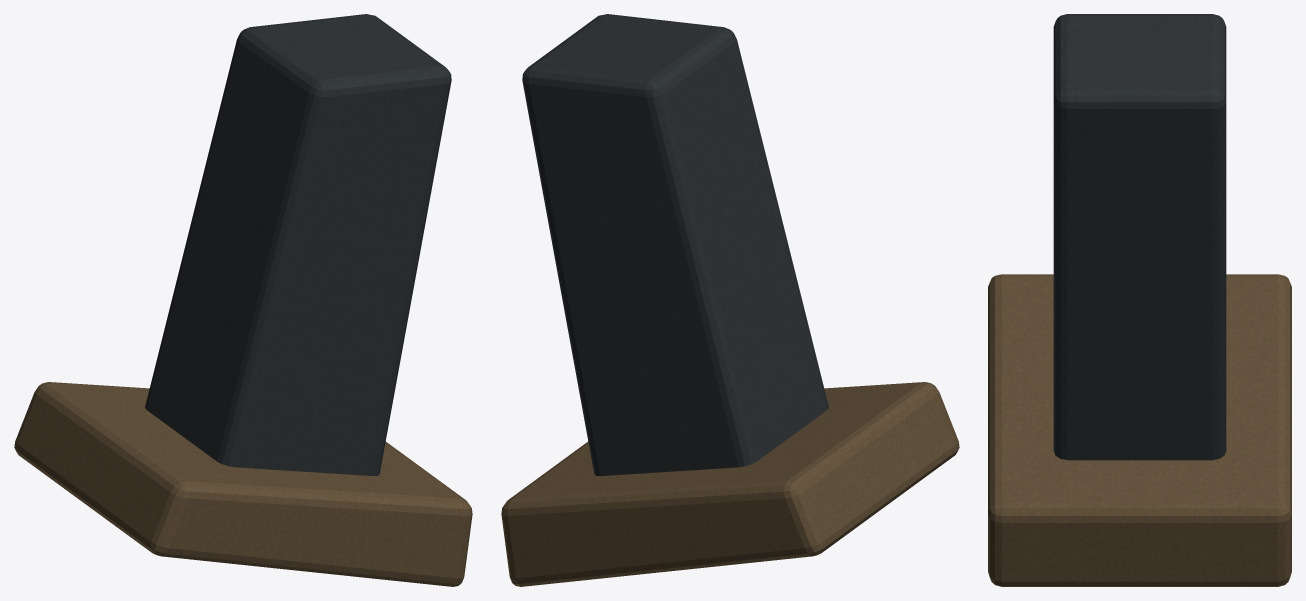
The model's file is mote03.magazine.glb.
The picture shows the model from 3 angles, left to right: view 1: azimuth 30°, elevation 25°; view 2: azimuth 150°, elevation 25°; view 3: azimuth 270°, elevation 25°; orthographic projection. The views are drawn at different scales.
Parts seen in each view (by area): view 1: VIS_mote03_magazine; view 2: VIS_mote03_magazine; view 3: VIS_mote03_magazine.
Part boxes in pixels (x1=…): VIS_mote03_magazine: x1=14, y1=14, x2=472, y2=586; VIS_mote03_magazine: x1=501, y1=14, x2=959, y2=586; VIS_mote03_magazine: x1=988, y1=14, x2=1291, y2=586.
Bounding box in the file's own units: 0.0569 × 0.0832 × 0.044.
Materials: 2 (2 with a texture image).
